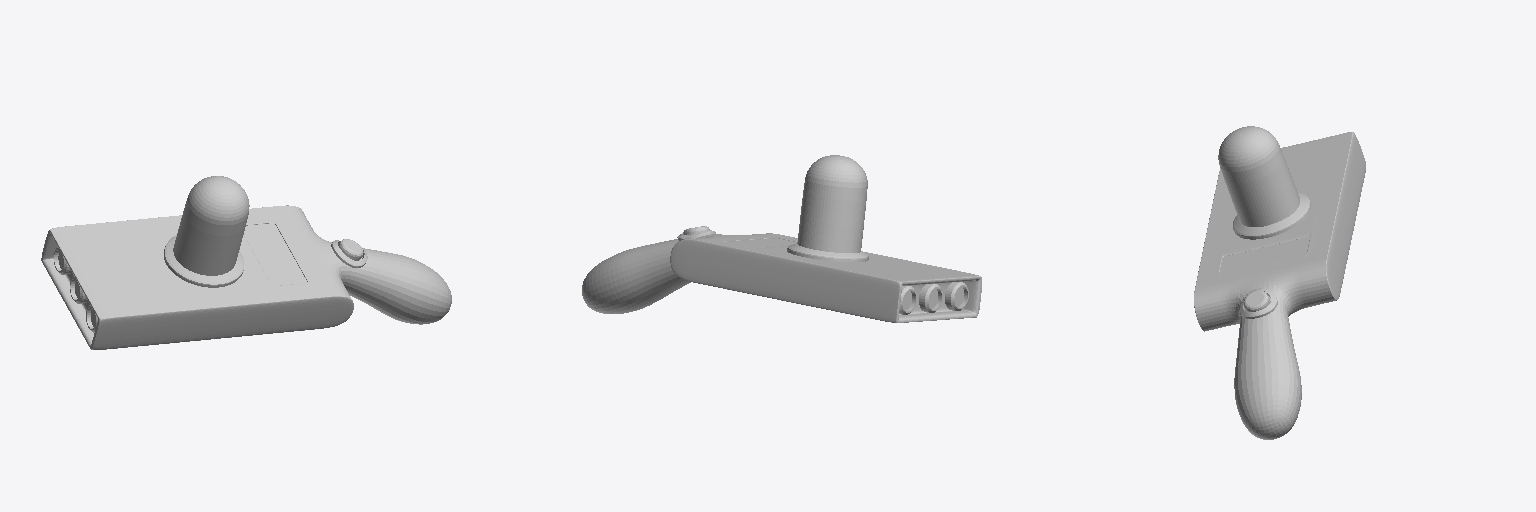
The model's file is Rick and Morty portal gun. obj.obj.
3 renders of one model, left to right at view 1: azimuth 30°, elevation 25°; view 2: azimuth 150°, elevation 25°; view 3: azimuth 270°, elevation 25°, orthographic.
Parts seen in each view (by area): view 1: Cube, Цилиндр, Куб, Окружность, Цилиндр.002; view 2: Cube, Цилиндр, Цилиндр.002, Окружность; view 3: Cube, Цилиндр, Куб, Окружность.
Boxes of the visible parts, x1,y1,x2,y2 form: Cube: [41, 205, 451, 349]; Цилиндр: [173, 176, 249, 275]; Куб: [244, 223, 306, 285]; Окружность: [164, 235, 243, 287]; Цилиндр.002: [54, 247, 97, 332]; Cube: [582, 233, 981, 322]; Цилиндр: [797, 155, 867, 252]; Цилиндр.002: [899, 282, 968, 314]; Окружность: [787, 243, 868, 261]; Cube: [1194, 132, 1365, 439]; Цилиндр: [1218, 126, 1299, 226]; Куб: [1219, 237, 1309, 275]; Окружность: [1233, 192, 1310, 239].
Size of the model in its own units: 6.05 by 3.1 by 2.42.